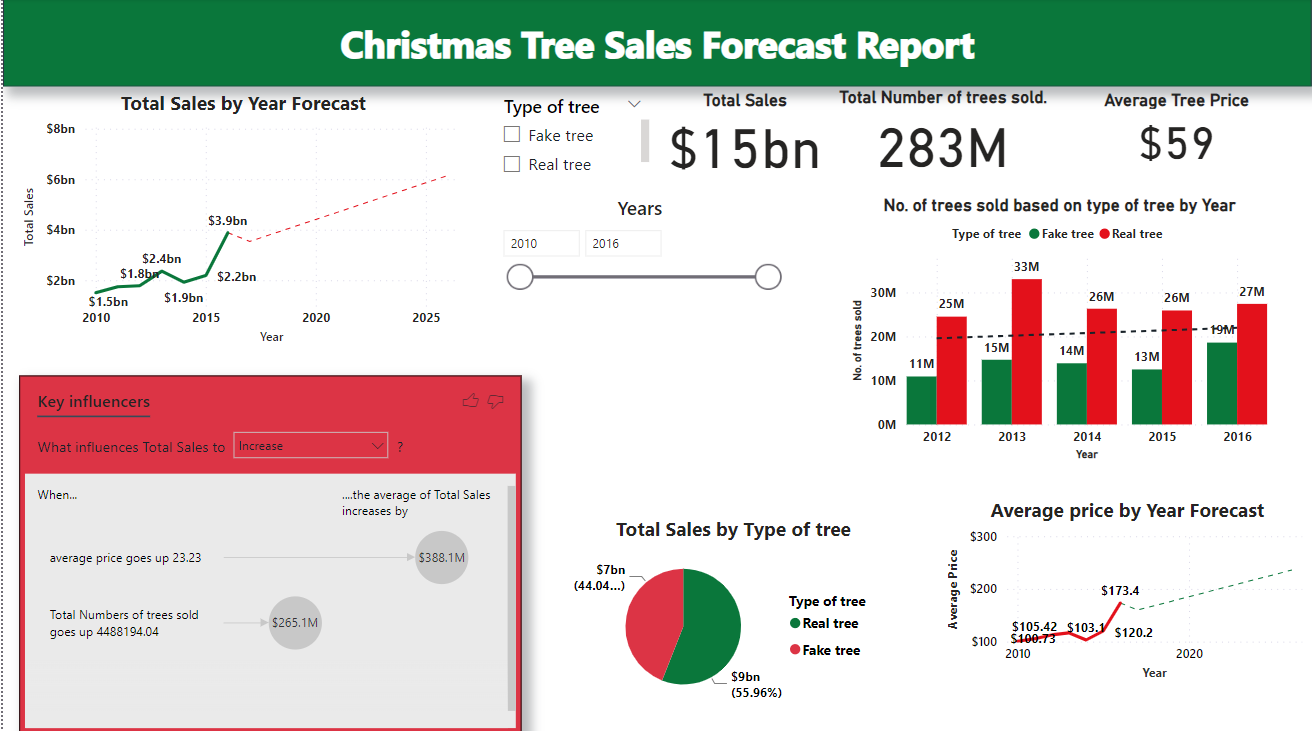

This screenshot's page, from the dashboard's own definition file:
{"tool":"powerbi","page":{"name":"Page 1","canvas":[1280,720],"ordinal":0},"visuals":[{"type":"lineChart","title":"Total Sales by Year Forecast","fields":{"Category":["Week 40 - US Christmas Tree Sales - 2010 to 2016.Date.Variation.Date Hierarchy.Year"],"Y":["Week 40 - US Christmas Tree Sales - 2010 to 2016.Total Sales"]},"box":[16.3,89.5,438.4,254.7],"z":0},{"type":"keyDriversVisual","fields":{"Target":["Week 40 - US Christmas Tree Sales - 2010 to 2016.Total Sales"],"ExplainBy":["Week 40 - US Christmas Tree Sales - 2010 to 2016.average price","Week 40 - US Christmas Tree Sales - 2010 to 2016.Total Numbers of trees sold"],"Details":["Week 40 - US Christmas Tree Sales - 2010 to 2016.Date.Variation.Date Hierarchy.Year"]},"box":[15.9,369.2,491.4,350.8],"z":1000},{"type":"card","title":"Average Tree Price","fields":{"Values":["Avg(Week 40 - US Christmas Tree Sales - 2010 to 2016.Average Tree Price)"]},"box":[1047.6,89.2,200.5,75.8],"z":2000},{"type":"card","title":"Total Sales","fields":{"Values":["Week 40 - US Christmas Tree Sales - 2010 to 2016.Total Sales"]},"box":[639.5,89.2,172.9,83.7],"z":3000},{"type":"card","title":"Total Number of trees sold.","fields":{"Values":["Sum(Week 40 - US Christmas Tree Sales - 2010 to 2016.Number of trees sold)"]},"box":[811.7,86.8,215.1,86.8],"z":4000},{"type":"clusteredColumnChart","title":"No. of trees sold based on type of tree by Year","fields":{"Y":["Sum(Week 40 - US Christmas Tree Sales - 2010 to 2016.Number of trees sold)"],"Category":["Week 40 - US Christmas Tree Sales - 2010 to 2016.Date.Variation.Date Hierarchy.Year"],"Series":["Week 40 - US Christmas Tree Sales - 2010 to 2016.Type of tree"]},"box":[825.6,191.9,416.3,265.1],"z":5000},{"type":"slicer","fields":{"Values":["Week 40 - US Christmas Tree Sales - 2010 to 2016.Type of tree"]},"box":[476.7,89.2,160.1,88],"z":6000},{"type":"slicer","title":"Years","fields":{"Values":["Week 40 - US Christmas Tree Sales - 2010 to 2016.Date.Variation.Date Hierarchy.Year"]},"box":[476.7,191.9,292.2,96.6],"z":7000},{"type":"textbox","box":[165,22,1024.4,39.1],"z":8000},{"type":"shape","title":"Christmas Sales Forecast Report ","box":[0,0,1279.9,86.8],"z":9000},{"type":"lineChart","title":"Average price by Year Forecast","fields":{"Category":["Week 40 - US Christmas Tree Sales - 2010 to 2016.Date.Variation.Date Hierarchy.Year"],"Y":["Week 40 - US Christmas Tree Sales - 2010 to 2016.average price"]},"box":[919.8,487.2,360.5,184.9],"z":10000},{"type":"pieChart","fields":{"Category":["Week 40 - US Christmas Tree Sales - 2010 to 2016.Type of tree"],"Y":["Week 40 - US Christmas Tree Sales - 2010 to 2016.Total Sales"]},"box":[557,505.8,314,193],"z":11000}]}

Visuals, with their boxes in screenshot pixels (x1, y1, x2, y2), scaled from the page's 1280x720 canvas onto the 1312x731 screenshot:
"Total Sales by Year Forecast" lineChart: 17 91 466 349
keyDriversVisual - Week 40 - US Christmas Tree Sales - 2010 to 2016.Total Sales x Week 40 - US Christmas Tree Sales - 2010 to 2016.average price: 16 375 520 730
"Average Tree Price" card: 1074 91 1279 168
"Total Sales" card: 655 91 833 176
"Total Number of trees sold." card: 832 88 1052 176
"No. of trees sold based on type of tree by Year" clusteredColumnChart: 846 195 1273 464
slicer - Week 40 - US Christmas Tree Sales - 2010 to 2016.Type of tree: 489 91 653 180
"Years" slicer: 489 195 788 293
textbox: 169 22 1219 62
"Christmas Sales Forecast Report " shape: 0 0 1311 88
"Average price by Year Forecast" lineChart: 943 495 1311 682
pieChart - Week 40 - US Christmas Tree Sales - 2010 to 2016.Type of tree x Week 40 - US Christmas Tree Sales - 2010 to 2016.Total Sales: 571 514 893 709
